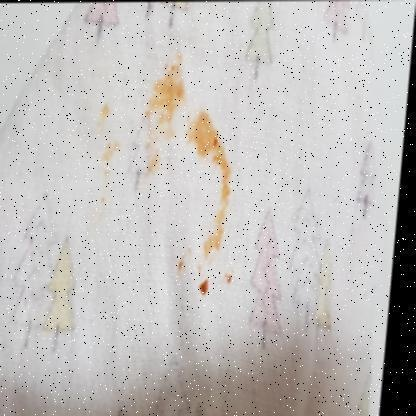kimchi: (200, 162, 252, 254), (140, 62, 188, 143), (192, 109, 234, 158), (94, 140, 120, 204), (190, 280, 213, 306), (145, 150, 163, 178), (221, 272, 238, 292), (173, 257, 187, 273), (101, 104, 110, 119)
